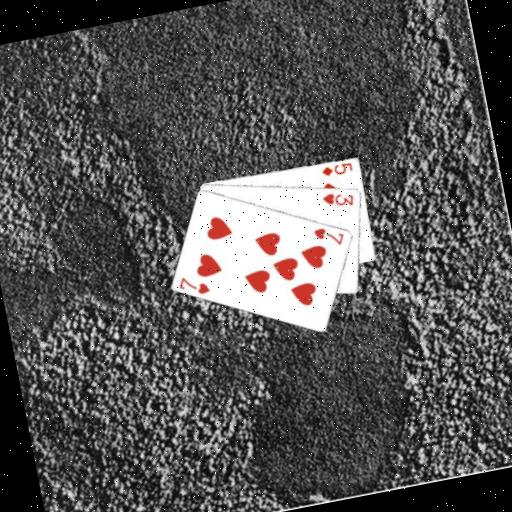3H: (319, 186, 356, 213)
5D: (319, 159, 355, 180)
7H: (310, 221, 348, 252), (175, 269, 213, 300)
